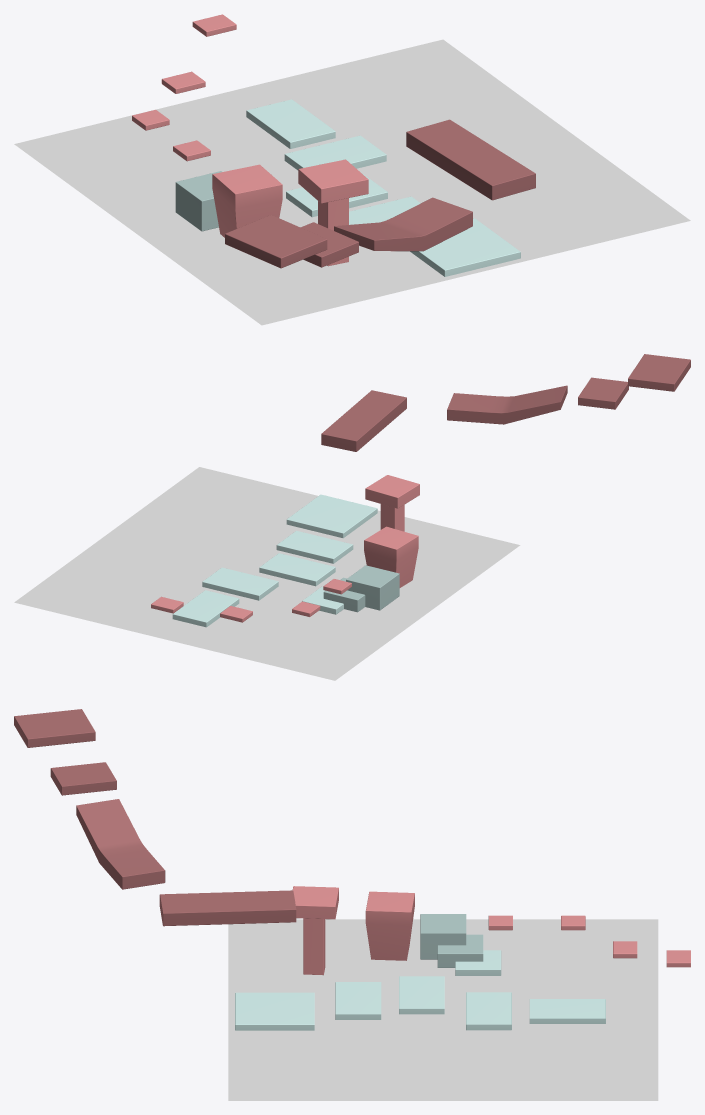
Rendered from ProjetoMingal.fbx.
3 views of the same model, one above another, from view 1: azimuth 30°, elevation 25°; view 2: azimuth 150°, elevation 25°; view 3: azimuth 270°, elevation 25° (orthographic). The views are drawn at different scales.
Parts seen in each view (by area): view 1: chao, Cube.011, Cube.006, Cube.001, Cube.004, Cube.016, Cube.002, Cube.014, Cube.013, Cube, Cube.017, Cube.012 (+5 smaller); view 2: chao, Cube.006, Cube.011, Cube.016, Cube.001, Cube.002, Cube.004, Cube, Cube.015, Cube.013, Cube.012, Cube.014 (+3 smaller); view 3: chao, Cube.006, Cube.011, Cube.016, Cube.001, Cube.002, Cube.004, Cube.014, Cube.012, Cube.013, Cube.015, Cube (+3 smaller).
Part boxes in pixels (box(x1,y1,x2,y2)): chao: box(14, 39, 690, 325); Cube.011: box(406, 119, 535, 200); Cube.006: box(334, 197, 472, 251); Cube.001: box(212, 164, 282, 237); Cube.004: box(225, 215, 327, 268); Cube.016: box(410, 218, 520, 276); Cube.002: box(298, 159, 368, 266); Cube.014: box(246, 99, 335, 148); Cube.013: box(284, 135, 386, 170); Cube: box(175, 171, 221, 231); Cube.017: box(300, 222, 358, 267); Cube.012: box(286, 173, 387, 217); chao: box(14, 467, 520, 680); Cube.006: box(447, 385, 567, 424); Cube.011: box(321, 390, 406, 451); Cube.016: box(286, 494, 377, 538); Cube.001: box(364, 526, 418, 587); Cube.002: box(365, 475, 419, 531); Cube.004: box(628, 354, 690, 391); Cube: box(346, 565, 399, 610); Cube.015: box(276, 530, 353, 563); Cube.013: box(202, 567, 278, 600); Cube.012: box(259, 553, 335, 586); Cube.014: box(172, 590, 239, 627); chao: box(228, 919, 658, 1100); Cube.006: box(76, 799, 165, 889); Cube.011: box(159, 890, 296, 926); Cube.016: box(235, 992, 314, 1030); Cube.001: box(365, 891, 414, 960); Cube.002: box(292, 886, 338, 975); Cube.004: box(14, 709, 95, 747); Cube.014: box(529, 999, 605, 1023); Cube.012: box(399, 976, 444, 1014); Cube.013: box(466, 992, 511, 1030); Cube.015: box(335, 982, 381, 1019); Cube: box(420, 914, 466, 959).
Bounding box in the file's own units: 195 × 62.19 × 239.
